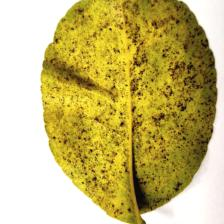canker: (75, 25, 195, 150)
